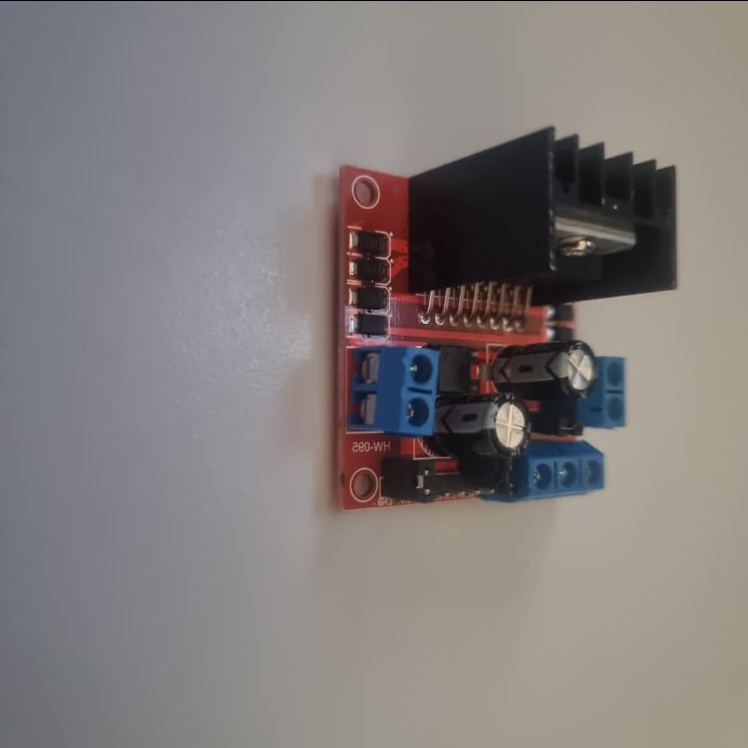MOTOR: (338, 125, 679, 507)
